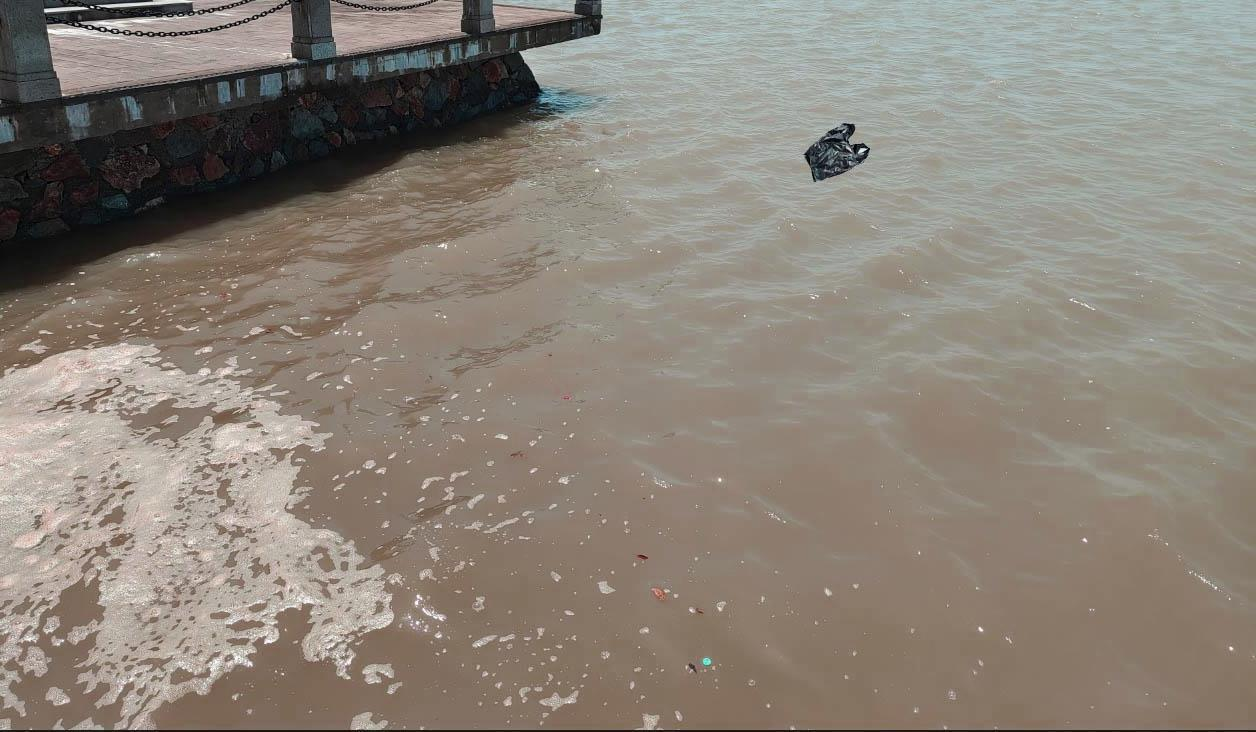Trash: (800, 117, 874, 183)
